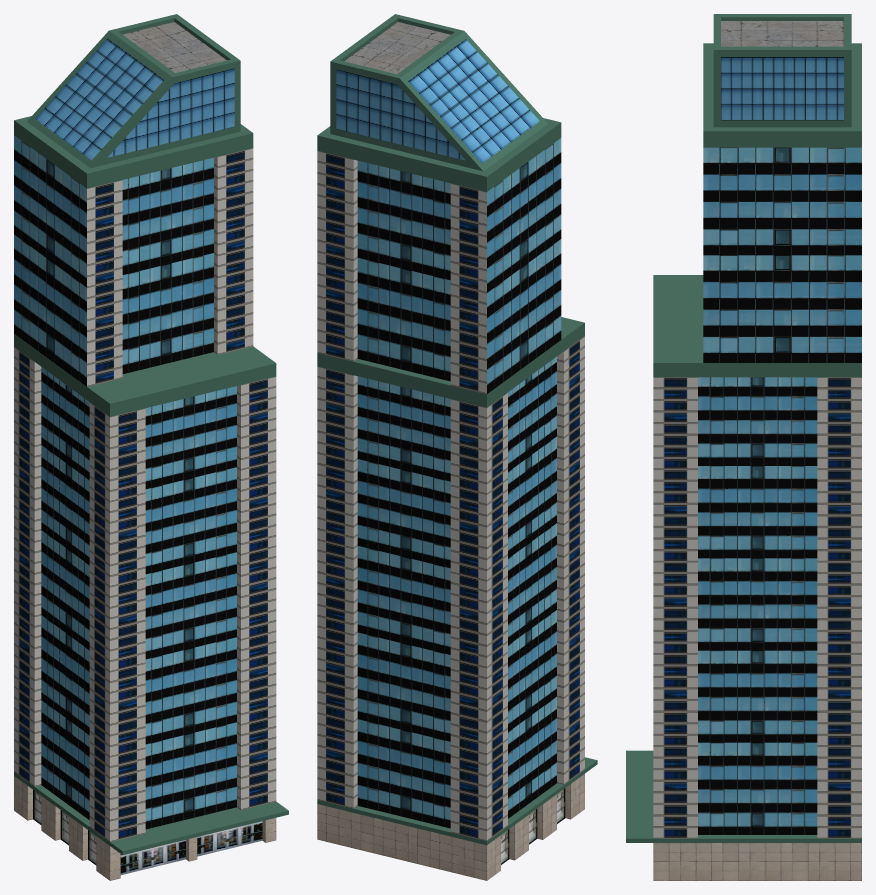
Rendered from building22.FBX.
3 renders of one model, left to right at view 1: azimuth 30°, elevation 25°; view 2: azimuth 150°, elevation 25°; view 3: azimuth 270°, elevation 25°, orthographic. The views are drawn at different scales.
Parts seen in each view (by area): view 1: building22; view 2: building22; view 3: building22.
Boxes of the visible parts, x1,y1,x2,y2 form: building22: (14,14,288,880); building22: (317,14,597,880); building22: (626,14,861,880).
Bounding box in the file's own units: 120 × 525 × 136.
